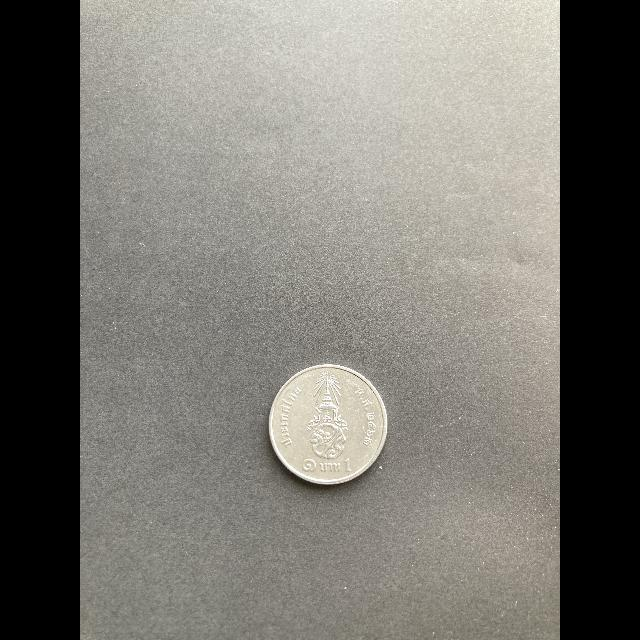1 Bath: (267, 362, 393, 488)
